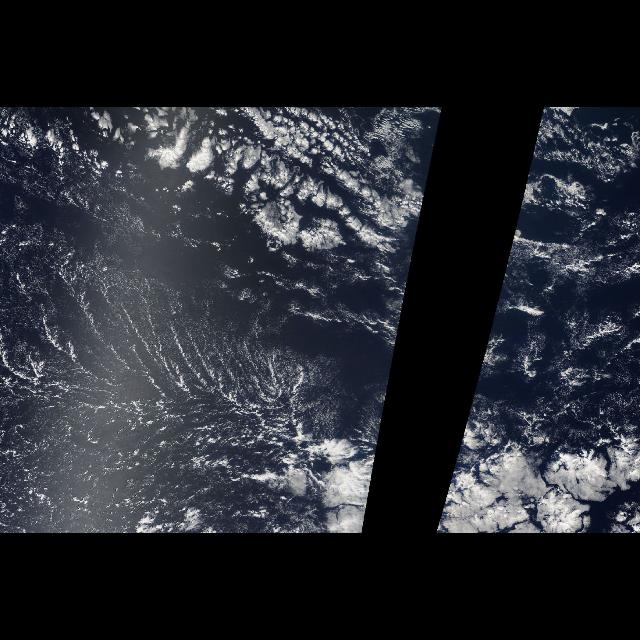Fish: (28, 108, 442, 290)
Flower: (140, 119, 436, 265), (432, 405, 640, 533), (312, 405, 386, 533)
Gravel: (11, 234, 317, 436)
Sugar: (1, 222, 322, 534)
